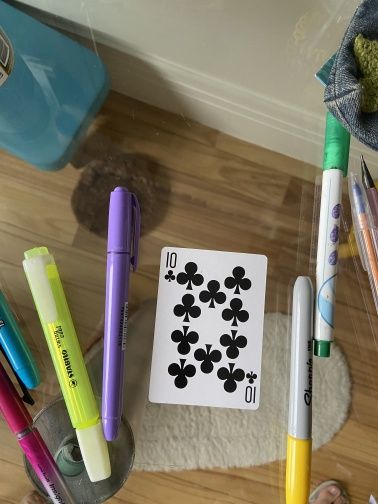ten: (147, 245, 269, 411)
